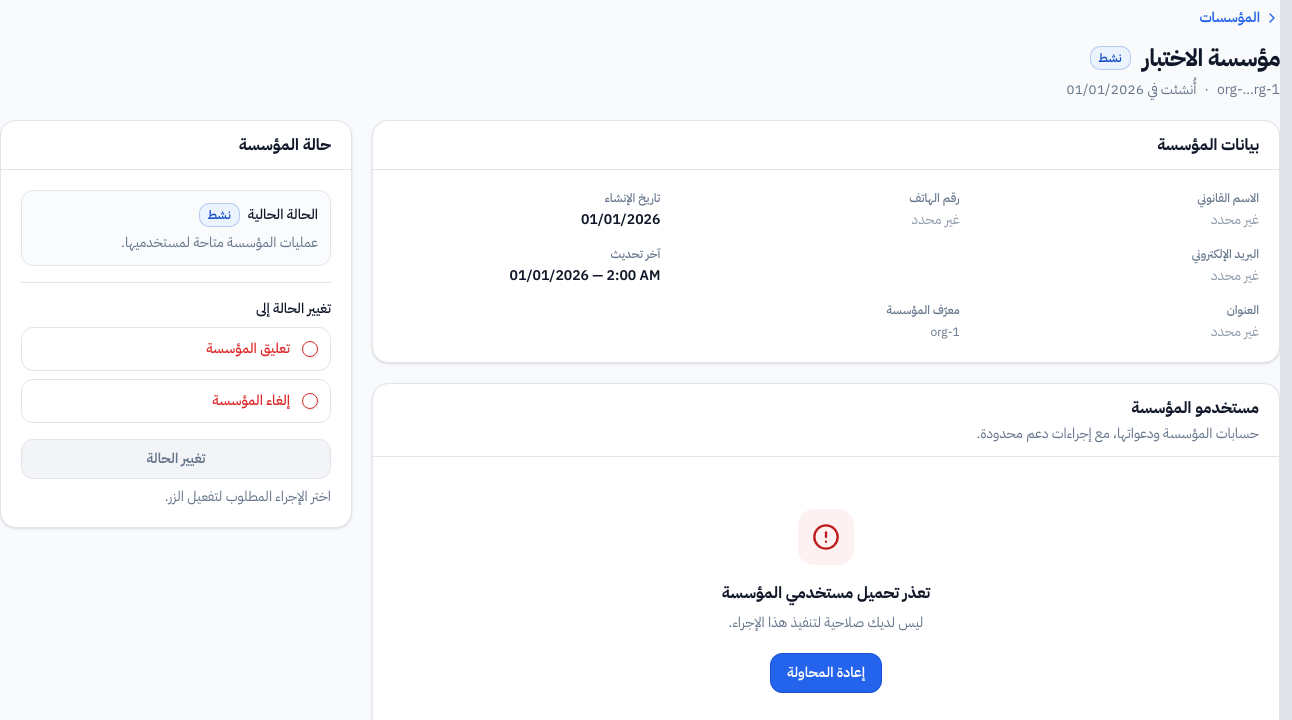
Test: PlatformOrganizationDetailPage › keeps the organization and lifecycle controls usable when the users query fails
Expected: the message shows "تعذر تحميل مستخدمي المؤسسة", [722,581,930,605]
Expected: the heading "مؤسسة الاختبار" is shown, [1143,42,1280,74]
Click the radio button next to "تعليق المؤسسة": (310, 349) [302,341,318,357]
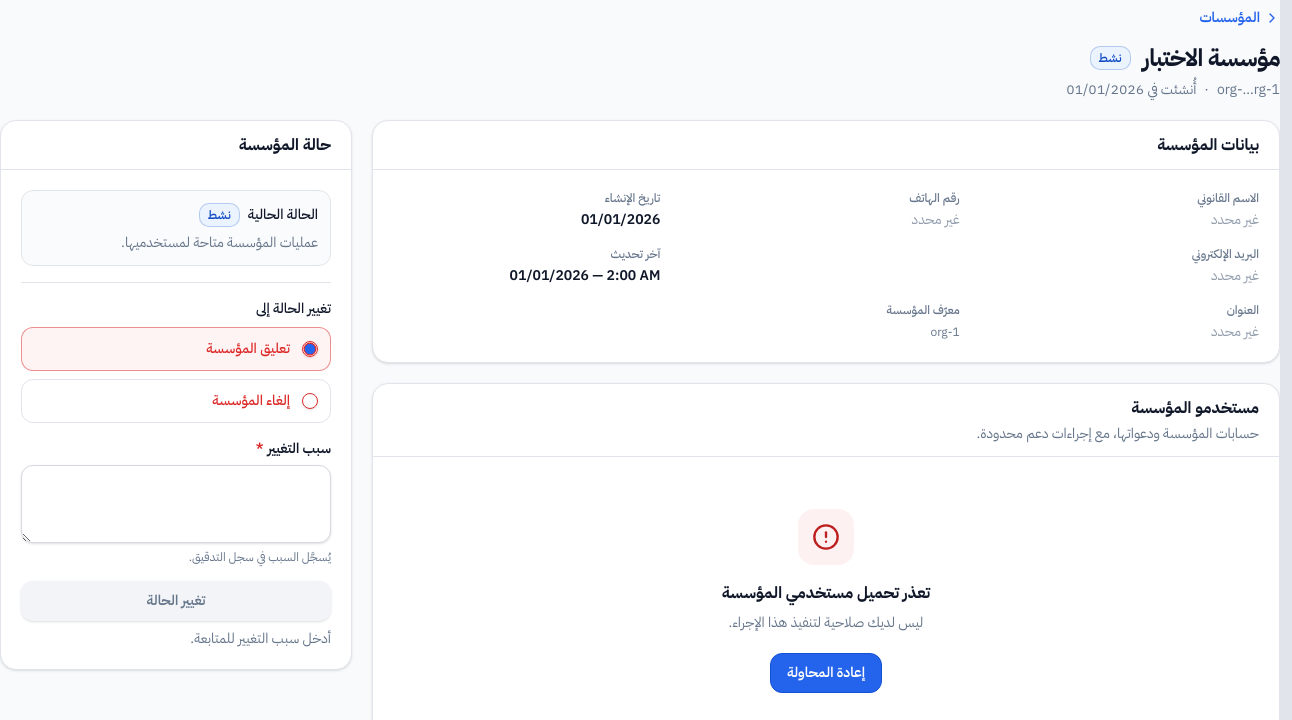
In the text box labelled "سبب التغيير*": (176, 504) [21,465,331,543], type "سبب"
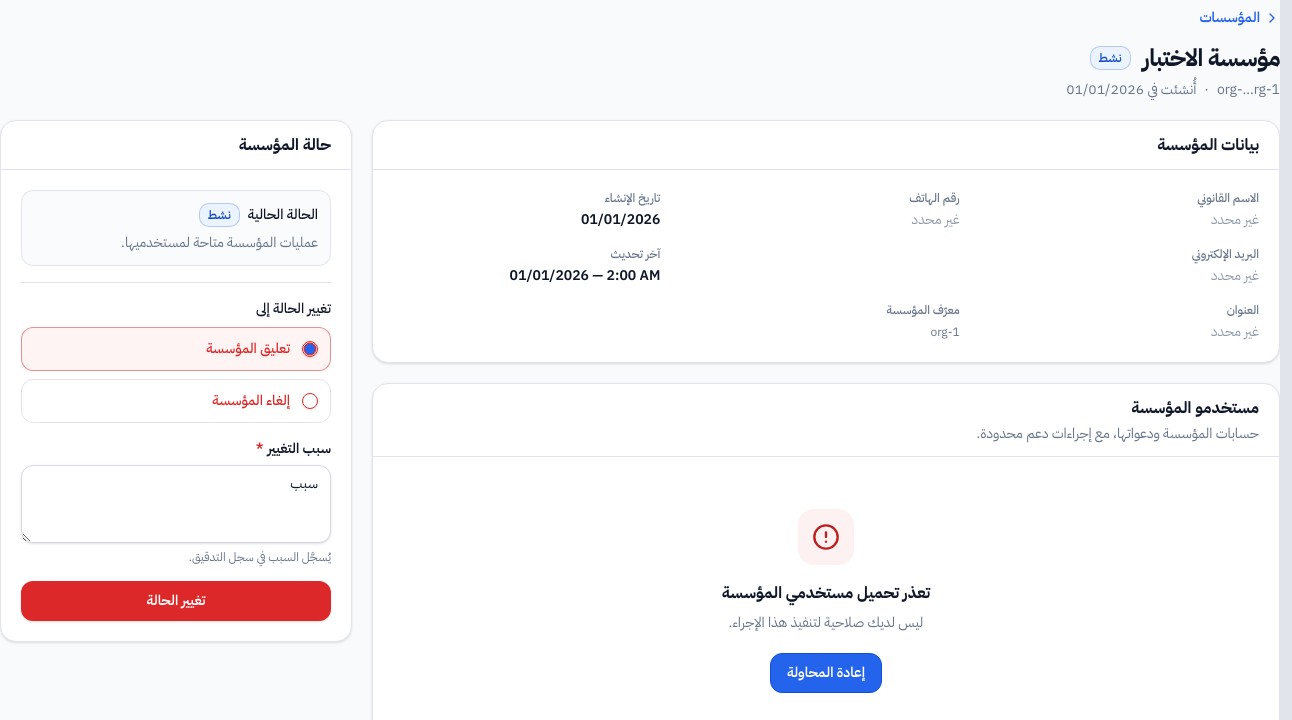
Now the button "تغيير الحالة" is enabled, box [21,581,331,621]
